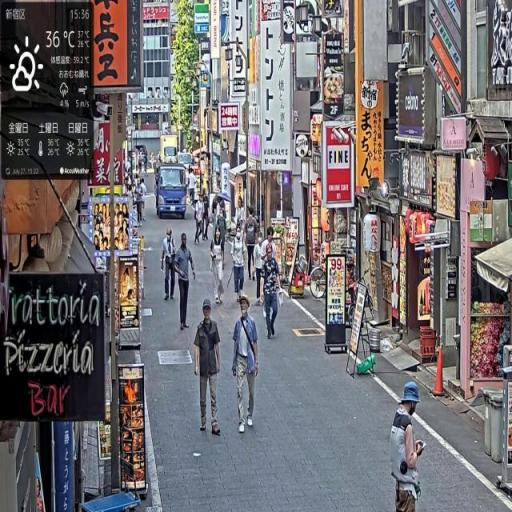person: (390, 379, 428, 512), (231, 290, 260, 436), (194, 295, 223, 438), (173, 232, 198, 332), (262, 243, 285, 340), (161, 226, 179, 301), (231, 224, 248, 301), (212, 227, 228, 308), (245, 205, 259, 284), (254, 232, 267, 307), (195, 193, 207, 246), (136, 175, 148, 227)
